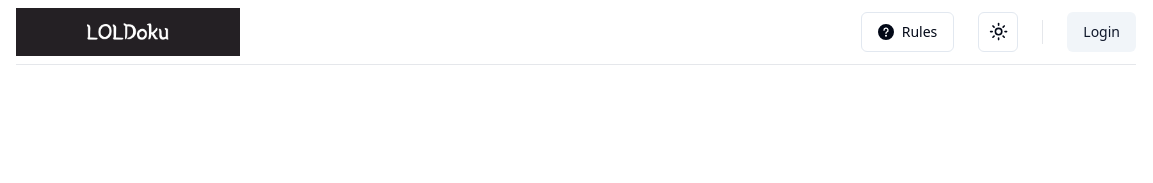
Scenario: Navbar Component › should show mode options when user clicks on the mode button
This screenshot has width=1153, height=183.
Click the button "Toggle theme" at (998, 32), box [978,12,1018,52]
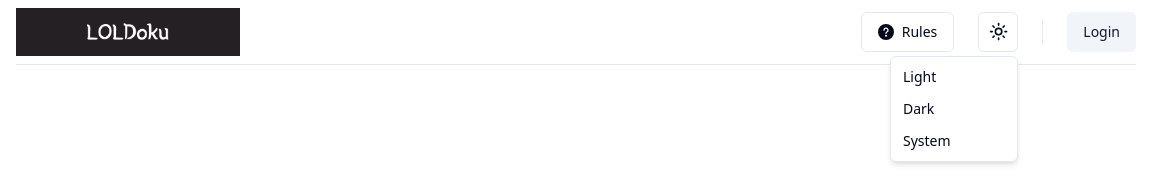
Result: the menu item "Light" is shown at [903,67,936,86]
Result: the menu item "Dark" is shown at [903,99,934,118]
Result: the menu item "System" is shown at [903,131,951,150]
